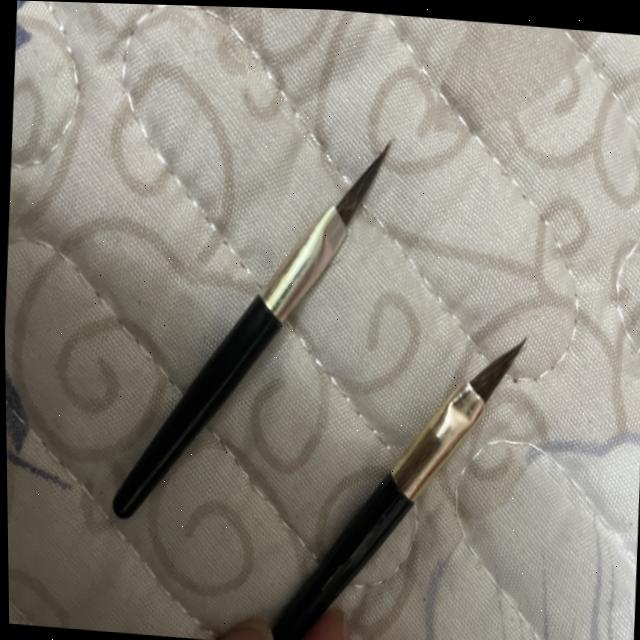brush: (85, 105, 407, 544), (318, 297, 547, 606)
